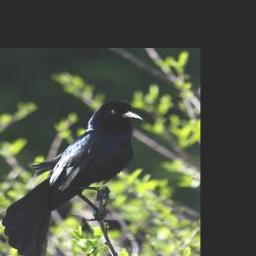Crow: (3, 98, 145, 256)
